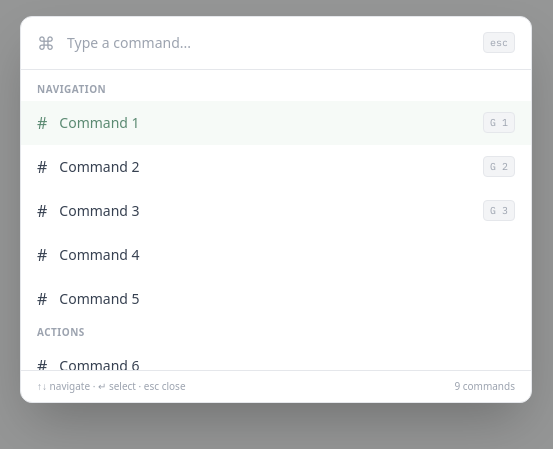
Scenario: CommandPalette › filters commands by search query
In the field with placeholder "Type a command...": (269,43) [67, 33, 471, 53], type "Command 1"
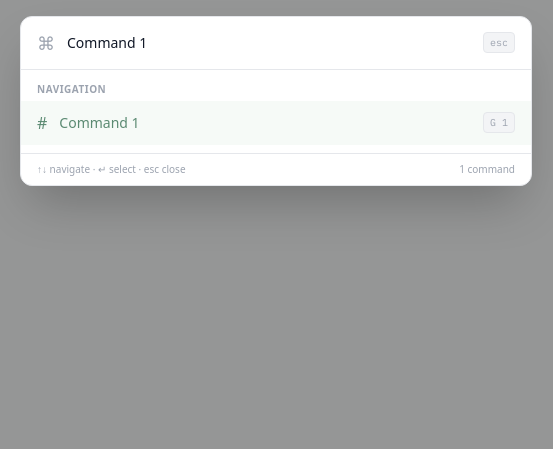
Expected: the text "Command 1" is shown, [59, 113, 140, 133]
Now the text "1 command" is shown, box [459, 162, 515, 177]
